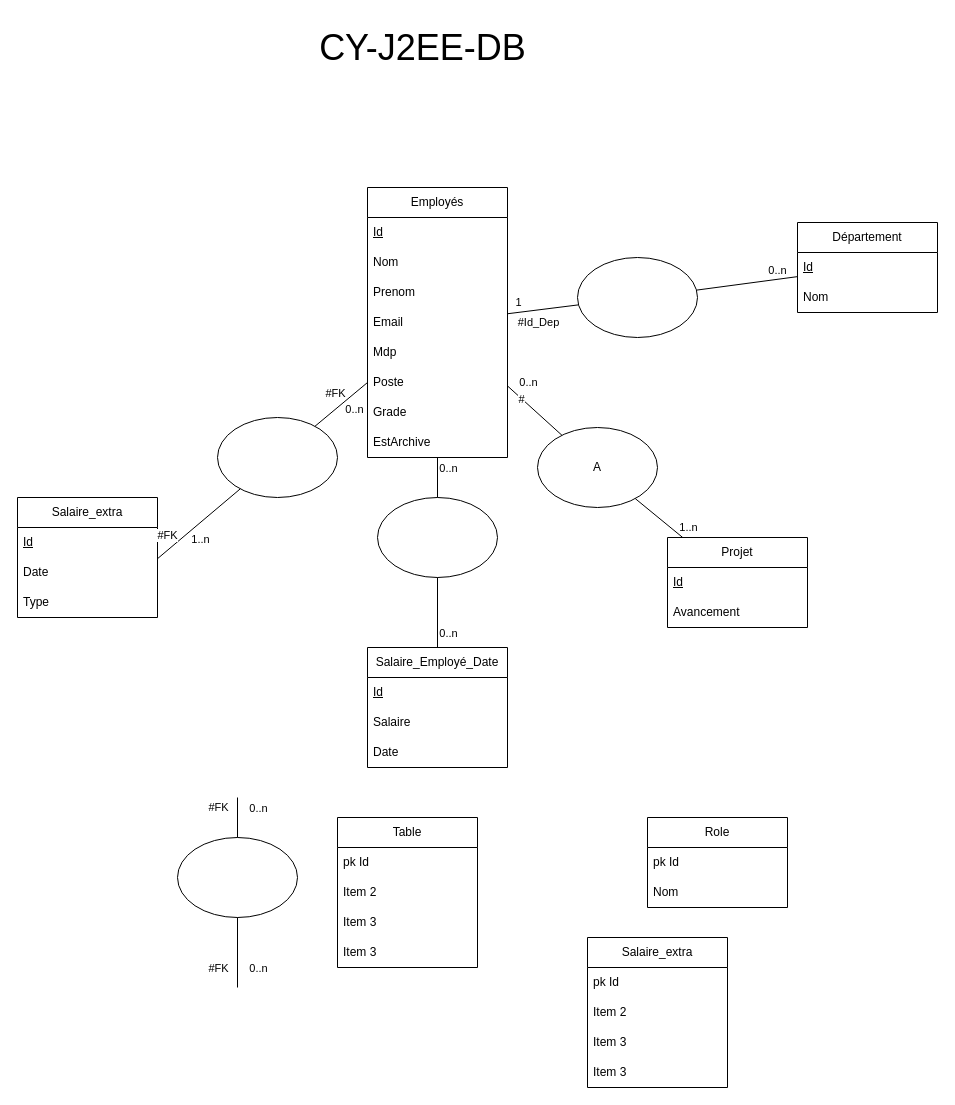
Some shapes in this 955 by 1105 pixel diagram are drawn without their labels. Each missing label, with the centre of its shape:
"Appartient" belongs at point (637, 297).
"Lier" belongs at point (237, 877).
"Obtient" belongs at point (277, 457).
"Reçois" belongs at point (437, 537).
